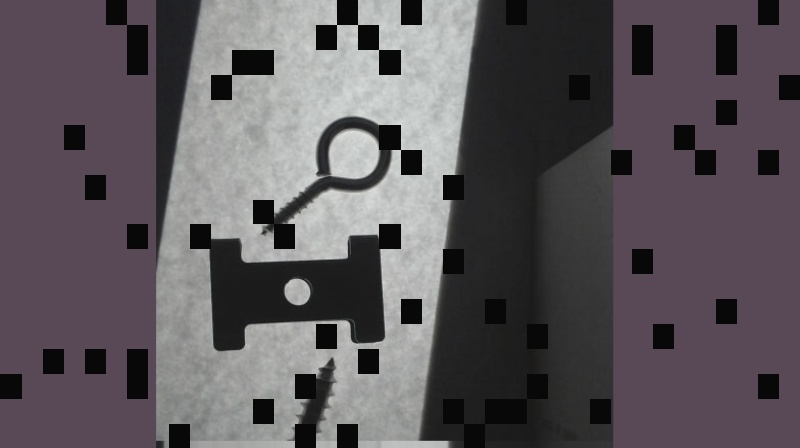O001: (258, 112, 393, 234)
O002: (207, 228, 384, 354)
S001: (243, 352, 339, 447)
